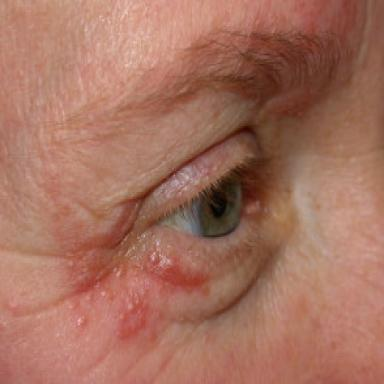acne: (145, 251, 205, 285), (116, 322, 145, 338), (77, 317, 86, 327), (119, 313, 125, 319), (127, 304, 132, 310)
